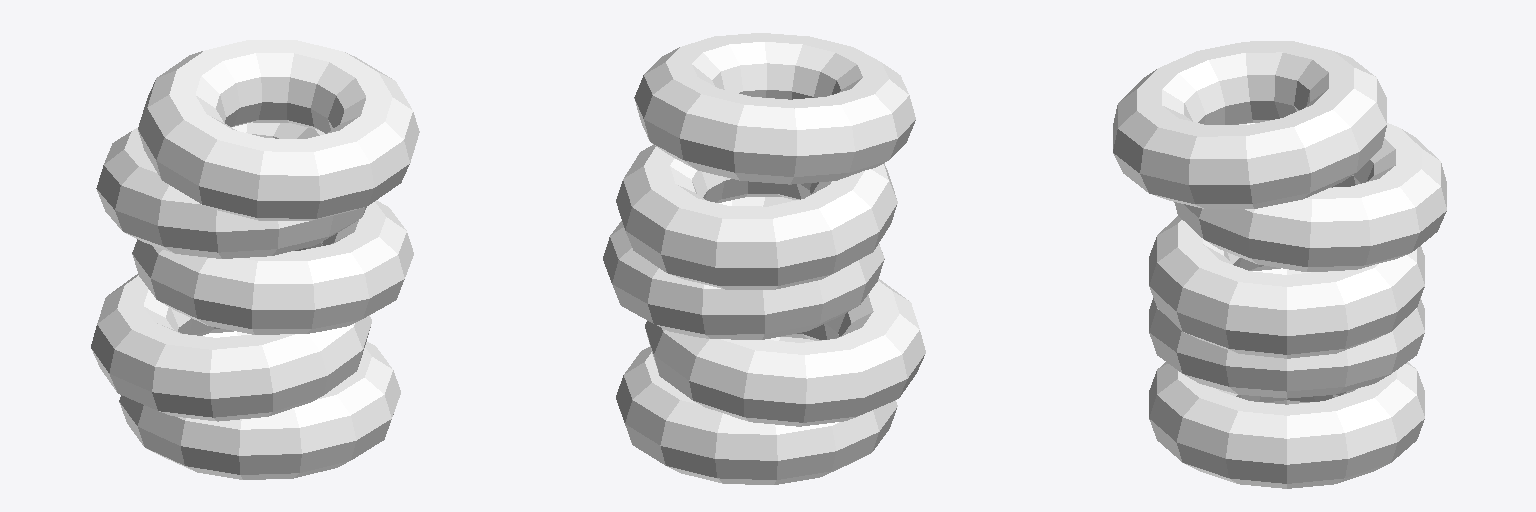
The model's file is Donuts.obj.
3 renders of one model, left to right at view 1: azimuth 30°, elevation 25°; view 2: azimuth 150°, elevation 25°; view 3: azimuth 270°, elevation 25°, orthographic.
Visible parts, largest first — view 1: default; view 2: default; view 3: default.
Part boxes in pixels (bbox=[...]): default: bbox=[91, 40, 419, 479]; default: bbox=[603, 33, 925, 484]; default: bbox=[1113, 41, 1446, 488].
Size of the model in its own units: 2.33 by 2.83 by 2.36.